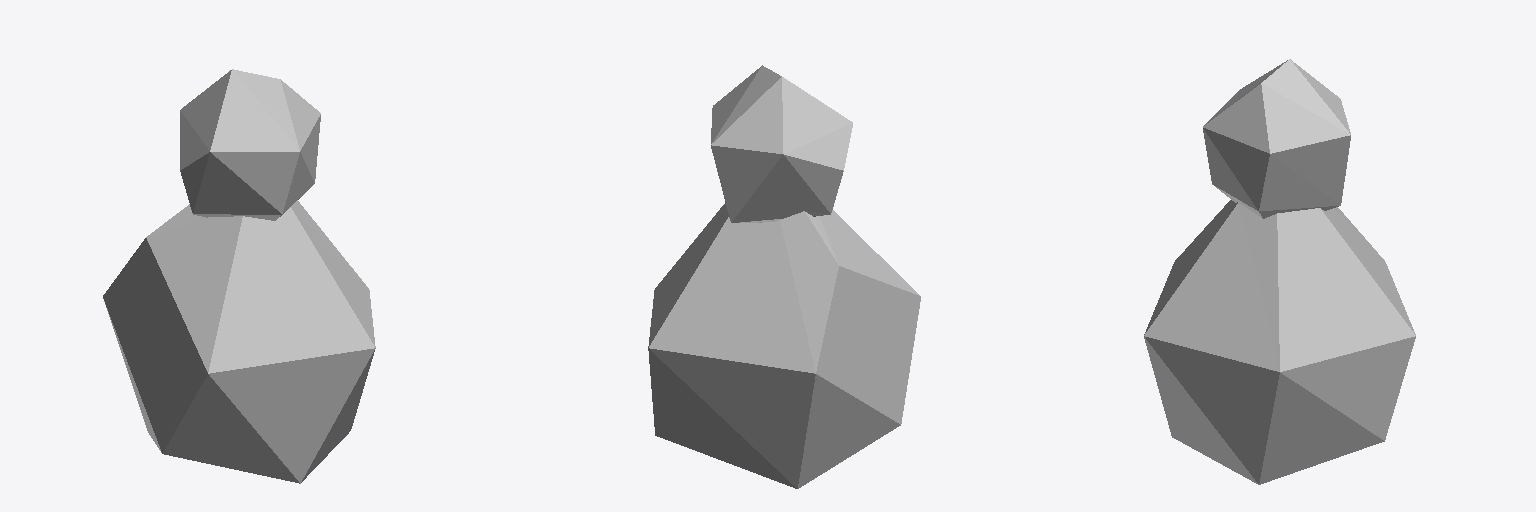
The model's file is man.obj.
3 renders of one model, left to right at view 1: azimuth 30°, elevation 25°; view 2: azimuth 150°, elevation 25°; view 3: azimuth 270°, elevation 25°, orthographic.
Visible parts, largest first — view 1: person_Icosphere.002; view 2: person_Icosphere.002; view 3: person_Icosphere.002.
Boxes of the visible parts, x1,y1,x2,y2 form: person_Icosphere.002: [103, 69, 375, 483]; person_Icosphere.002: [648, 65, 920, 488]; person_Icosphere.002: [1144, 59, 1415, 484].
Size of the model in its own units: 4.43 by 7 by 4.61.